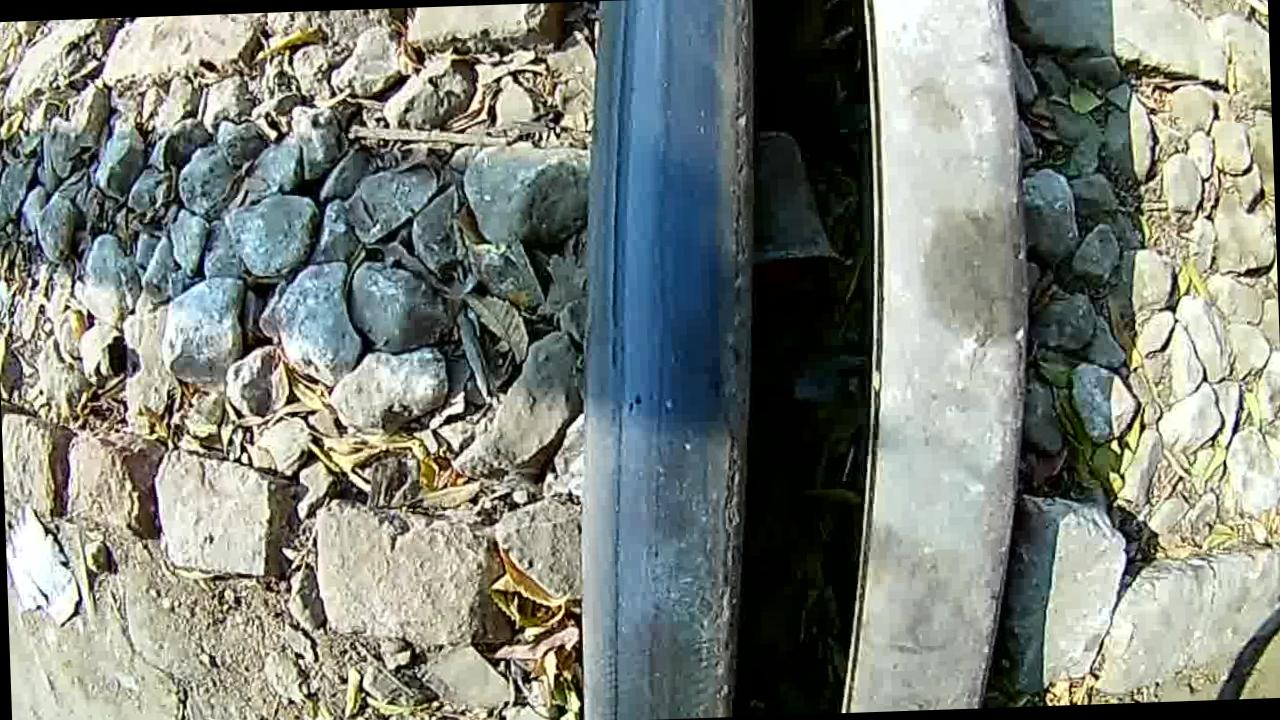clip_missing: (541, 0, 787, 720)
